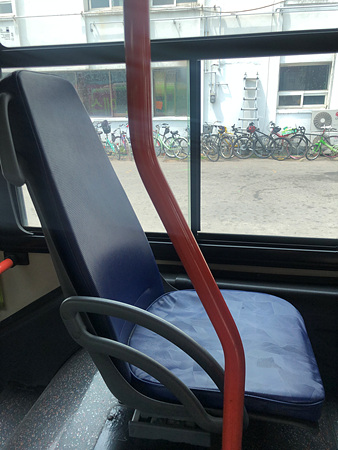seat: (14, 62, 325, 417)
